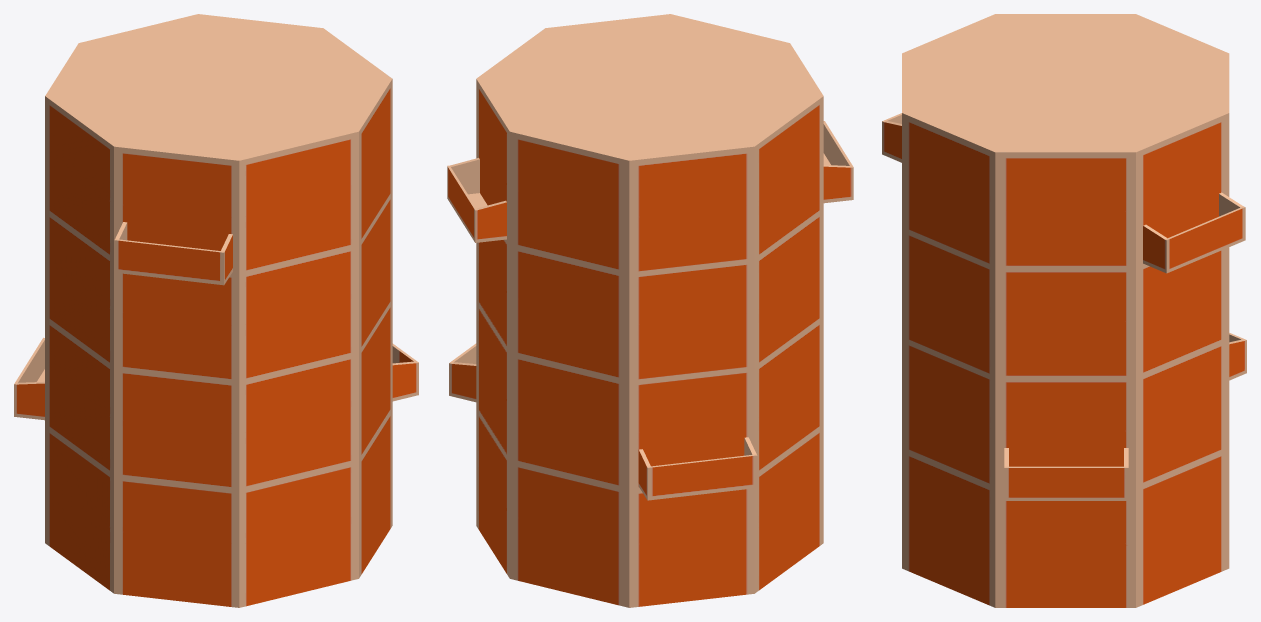
The model's file is 8gen_bina.fbx.
3 renders of one model, left to right at view 1: azimuth 30°, elevation 25°; view 2: azimuth 150°, elevation 25°; view 3: azimuth 270°, elevation 25°, orthographic.
Visible parts, largest first — view 1: Cube.004; view 2: Cube.004; view 3: Cube.004.
Boxes of the visible parts, bbox=[...] form: Cube.004: bbox=[14, 14, 418, 607]; Cube.004: bbox=[447, 14, 853, 607]; Cube.004: bbox=[882, 14, 1246, 607].
Size of the model in its own units: 234 by 307 by 223.
